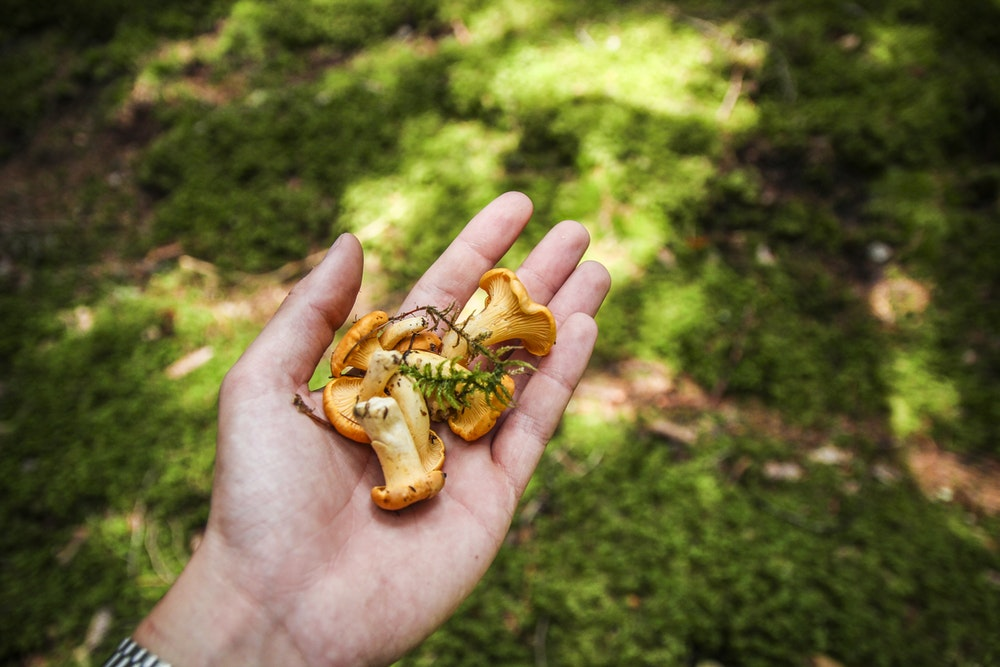palm: (244, 382, 501, 600)
